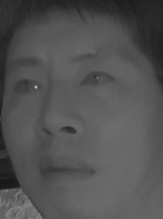eye: (78, 66, 119, 92), (7, 77, 46, 96)
mouth: (35, 153, 100, 187)
